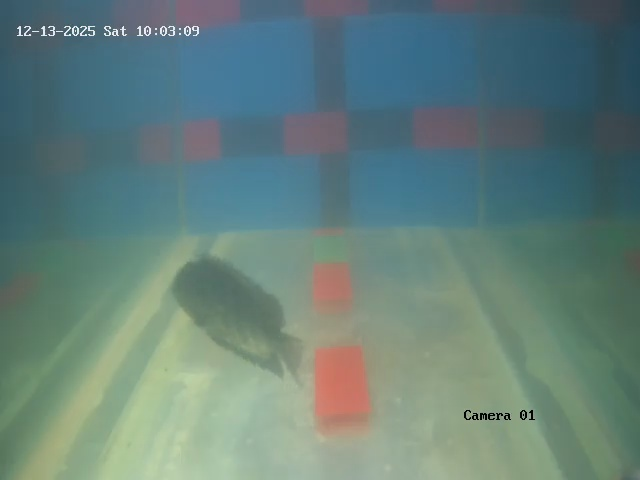fish: (167, 252, 277, 368)
